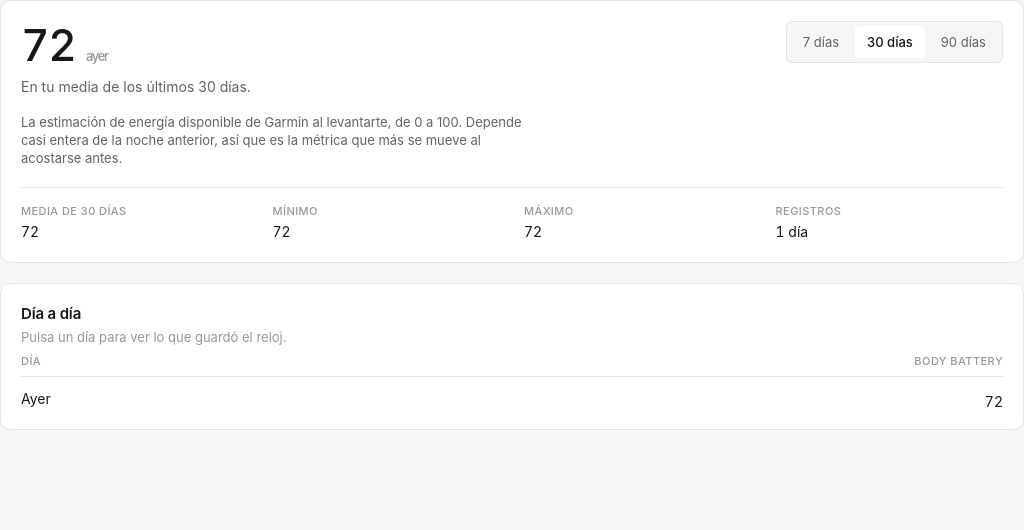
Test: MetricaDetalle › si el reloj no guardó la serie de ese día lo explica, sin dejar un hueco mudo
Step 1. Click the button named "ver el detalle del día" → x=36, y=399, box [21, 389, 51, 409]
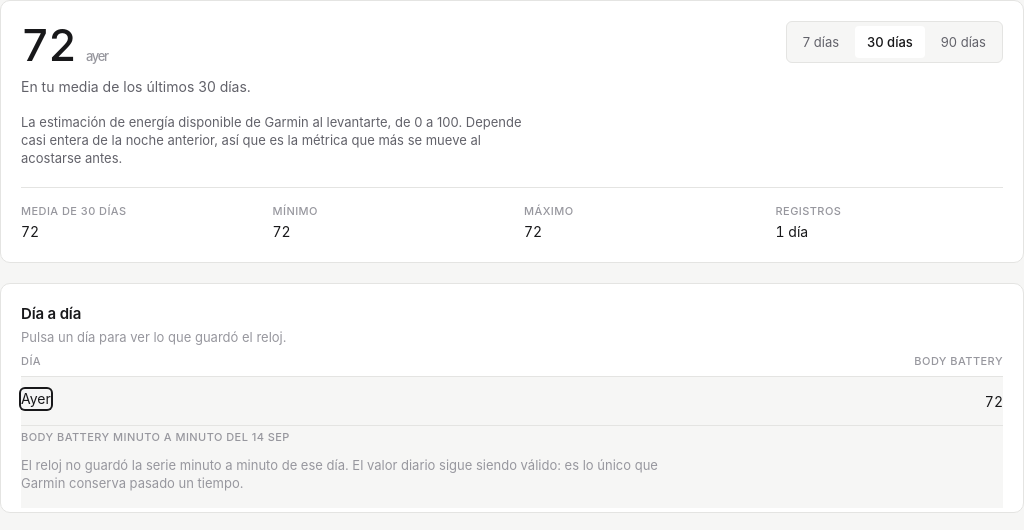
Result: the text "no guardó la serie minuto a minuto de ese día" is shown at [21, 457, 658, 491]
